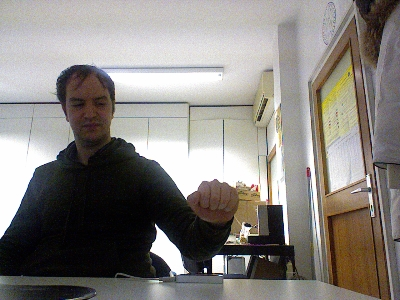石头: (185, 178, 239, 224)
